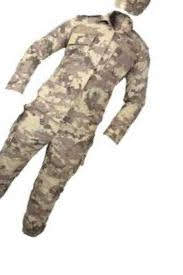uniform: (1, 1, 146, 234)
